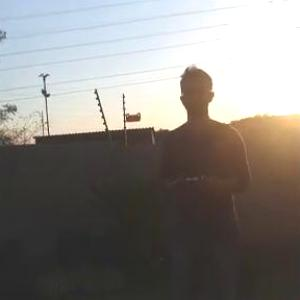follow: (158, 61, 256, 299)
